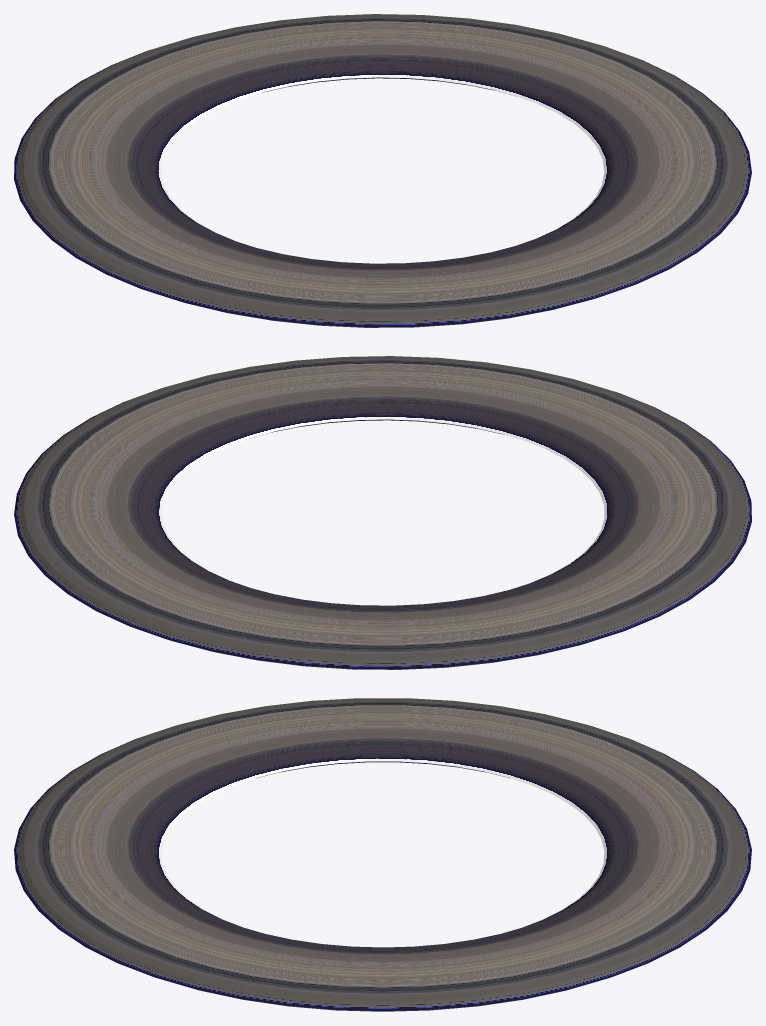
Rendered from Rings.obj.
3 renders of one model, top to bottom at view 1: azimuth 30°, elevation 25°; view 2: azimuth 150°, elevation 25°; view 3: azimuth 270°, elevation 25°, orthographic.
Parts seen in each view (by area): view 1: Torus; view 2: Torus; view 3: Torus.
Boxes of the visible parts, box(x1,y1,x2,y2) form: Torus: box(14, 14, 751, 327); Torus: box(14, 356, 751, 669); Torus: box(14, 698, 751, 1011).
Bounding box in the file's own units: 64.93 × 2 × 64.96.
